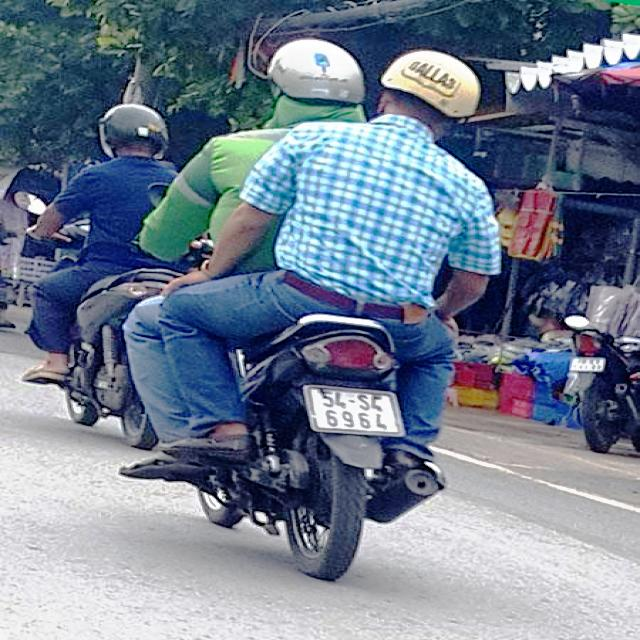license_plate: (306, 386, 406, 434), (568, 357, 606, 374)
